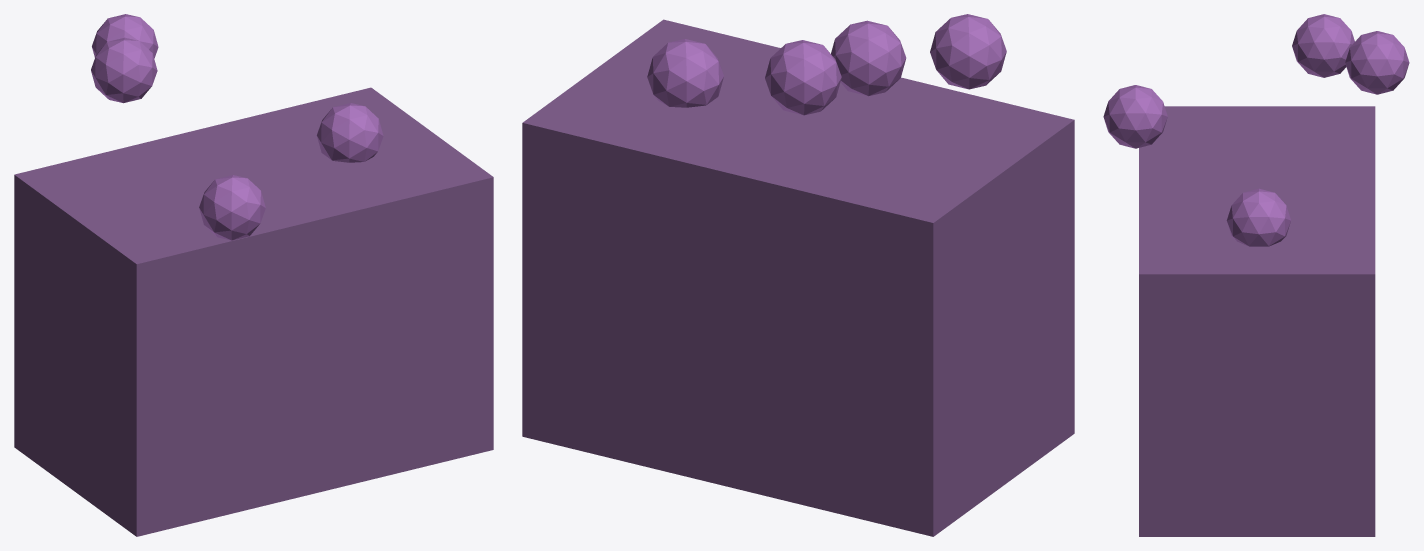
The model's file is deep_nightmare_wraith.glb.
3 renders of one model, left to right at view 1: azimuth 30°, elevation 25°; view 2: azimuth 150°, elevation 25°; view 3: azimuth 270°, elevation 25°, orthographic. The views are drawn at different scales.
Parts seen in each view (by area): view 1: geometry_0; view 2: geometry_0; view 3: geometry_0.
Boxes of the visible parts, x1=… form: geometry_0: x1=14, y1=14, x2=493, y2=536; geometry_0: x1=522, y1=14, x2=1074, y2=536; geometry_0: x1=1103, y1=14, x2=1409, y2=536.
Bounding box in the file's own units: 0.74 × 0.8044 × 0.57.
